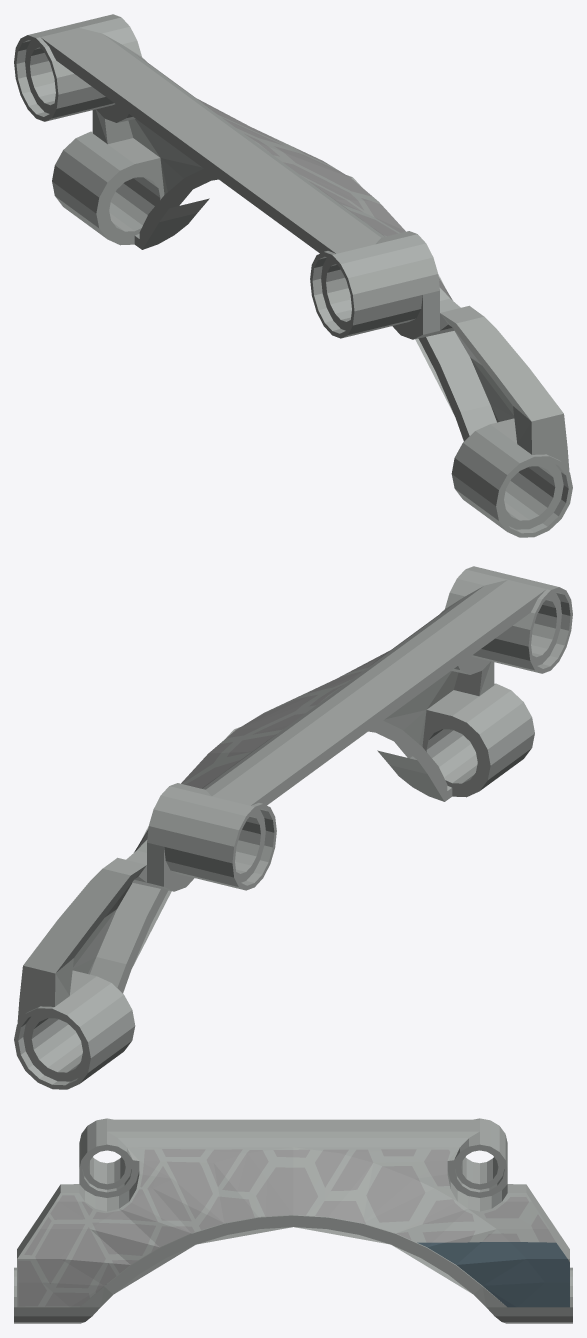
3 views of the same model, one above another, from view 1: azimuth 30°, elevation 25°; view 2: azimuth 150°, elevation 25°; view 3: azimuth 270°, elevation 25° (orthographic). The views are drawn at different scales.
Visible parts, largest first — view 1: world; view 2: world; view 3: world.
Part boxes in pixels (x1,y1,x2,y2): world: (14, 14, 572, 537); world: (14, 566, 572, 1089); world: (14, 1118, 572, 1323).
Bounding box in the file's own units: 0.0158 × 0.0232 × 0.072.
